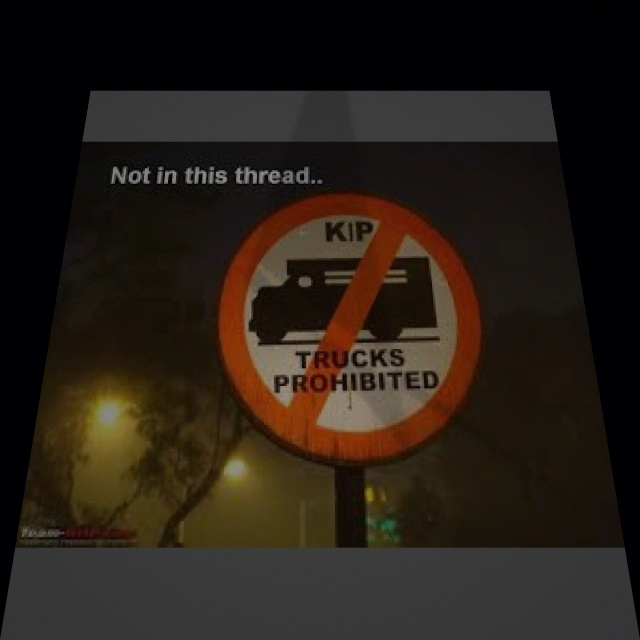Truck_Prohibited: (205, 192, 507, 467)
